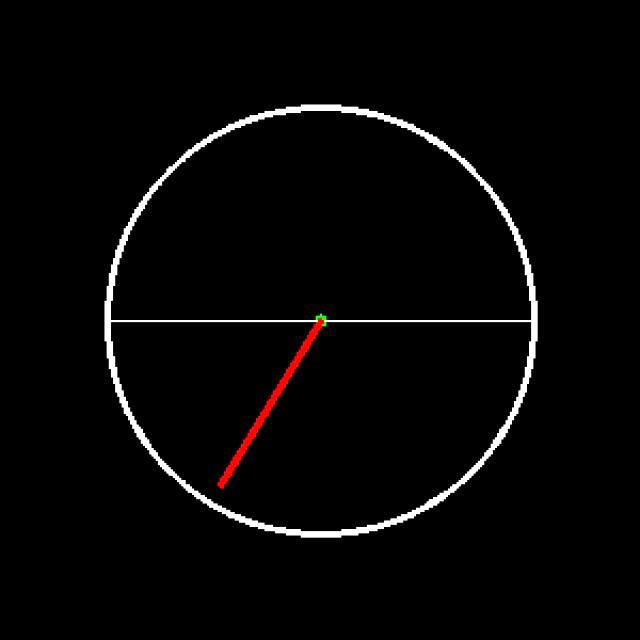Needle_Tip: (197, 469, 253, 512)
Needle_base: (302, 279, 345, 369)
